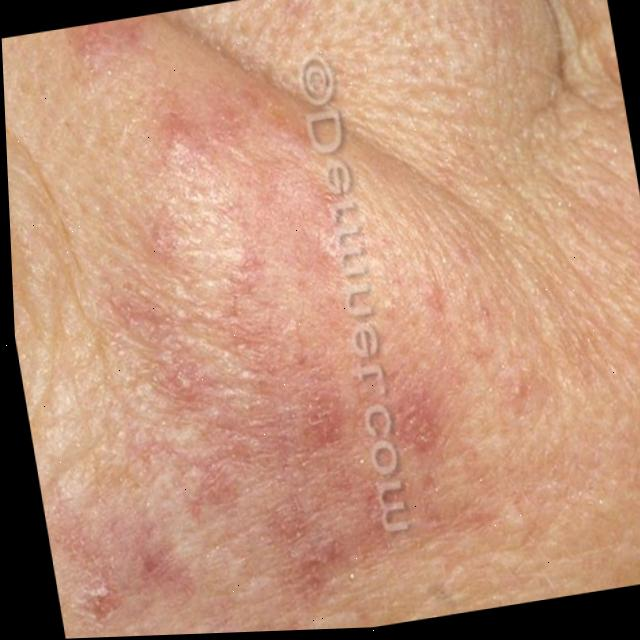Rosacea: (0, 0, 499, 627)
